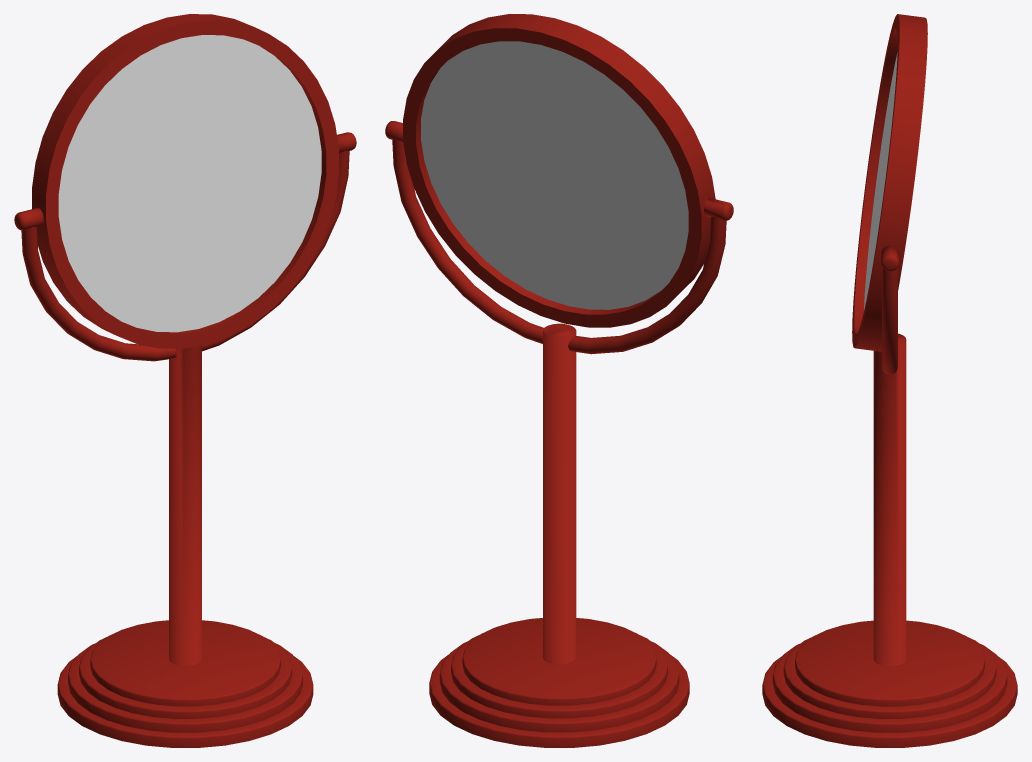
File: TableMirror.fbx
3 views of the same model, side by side, from view 1: azimuth 30°, elevation 25°; view 2: azimuth 150°, elevation 25°; view 3: azimuth 270°, elevation 25° (orthographic). The views are drawn at different scales.
Visible parts, largest first — view 1: table mirror; view 2: table mirror; view 3: table mirror.
Part boxes in pixels (x1,y1,x2,y2): table mirror: (14, 14, 356, 747); table mirror: (385, 14, 733, 747); table mirror: (762, 14, 1017, 747).
Size of the model in its own units: 1.04 by 1.97 by 0.6868.
